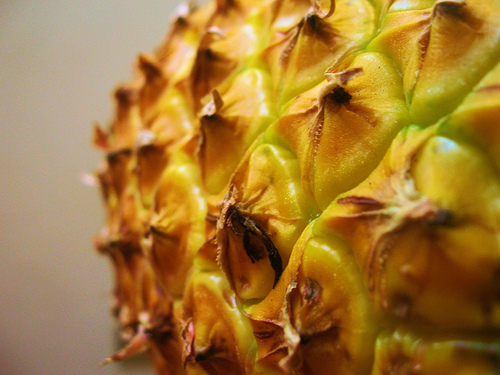pineapple: (87, 1, 498, 374)
